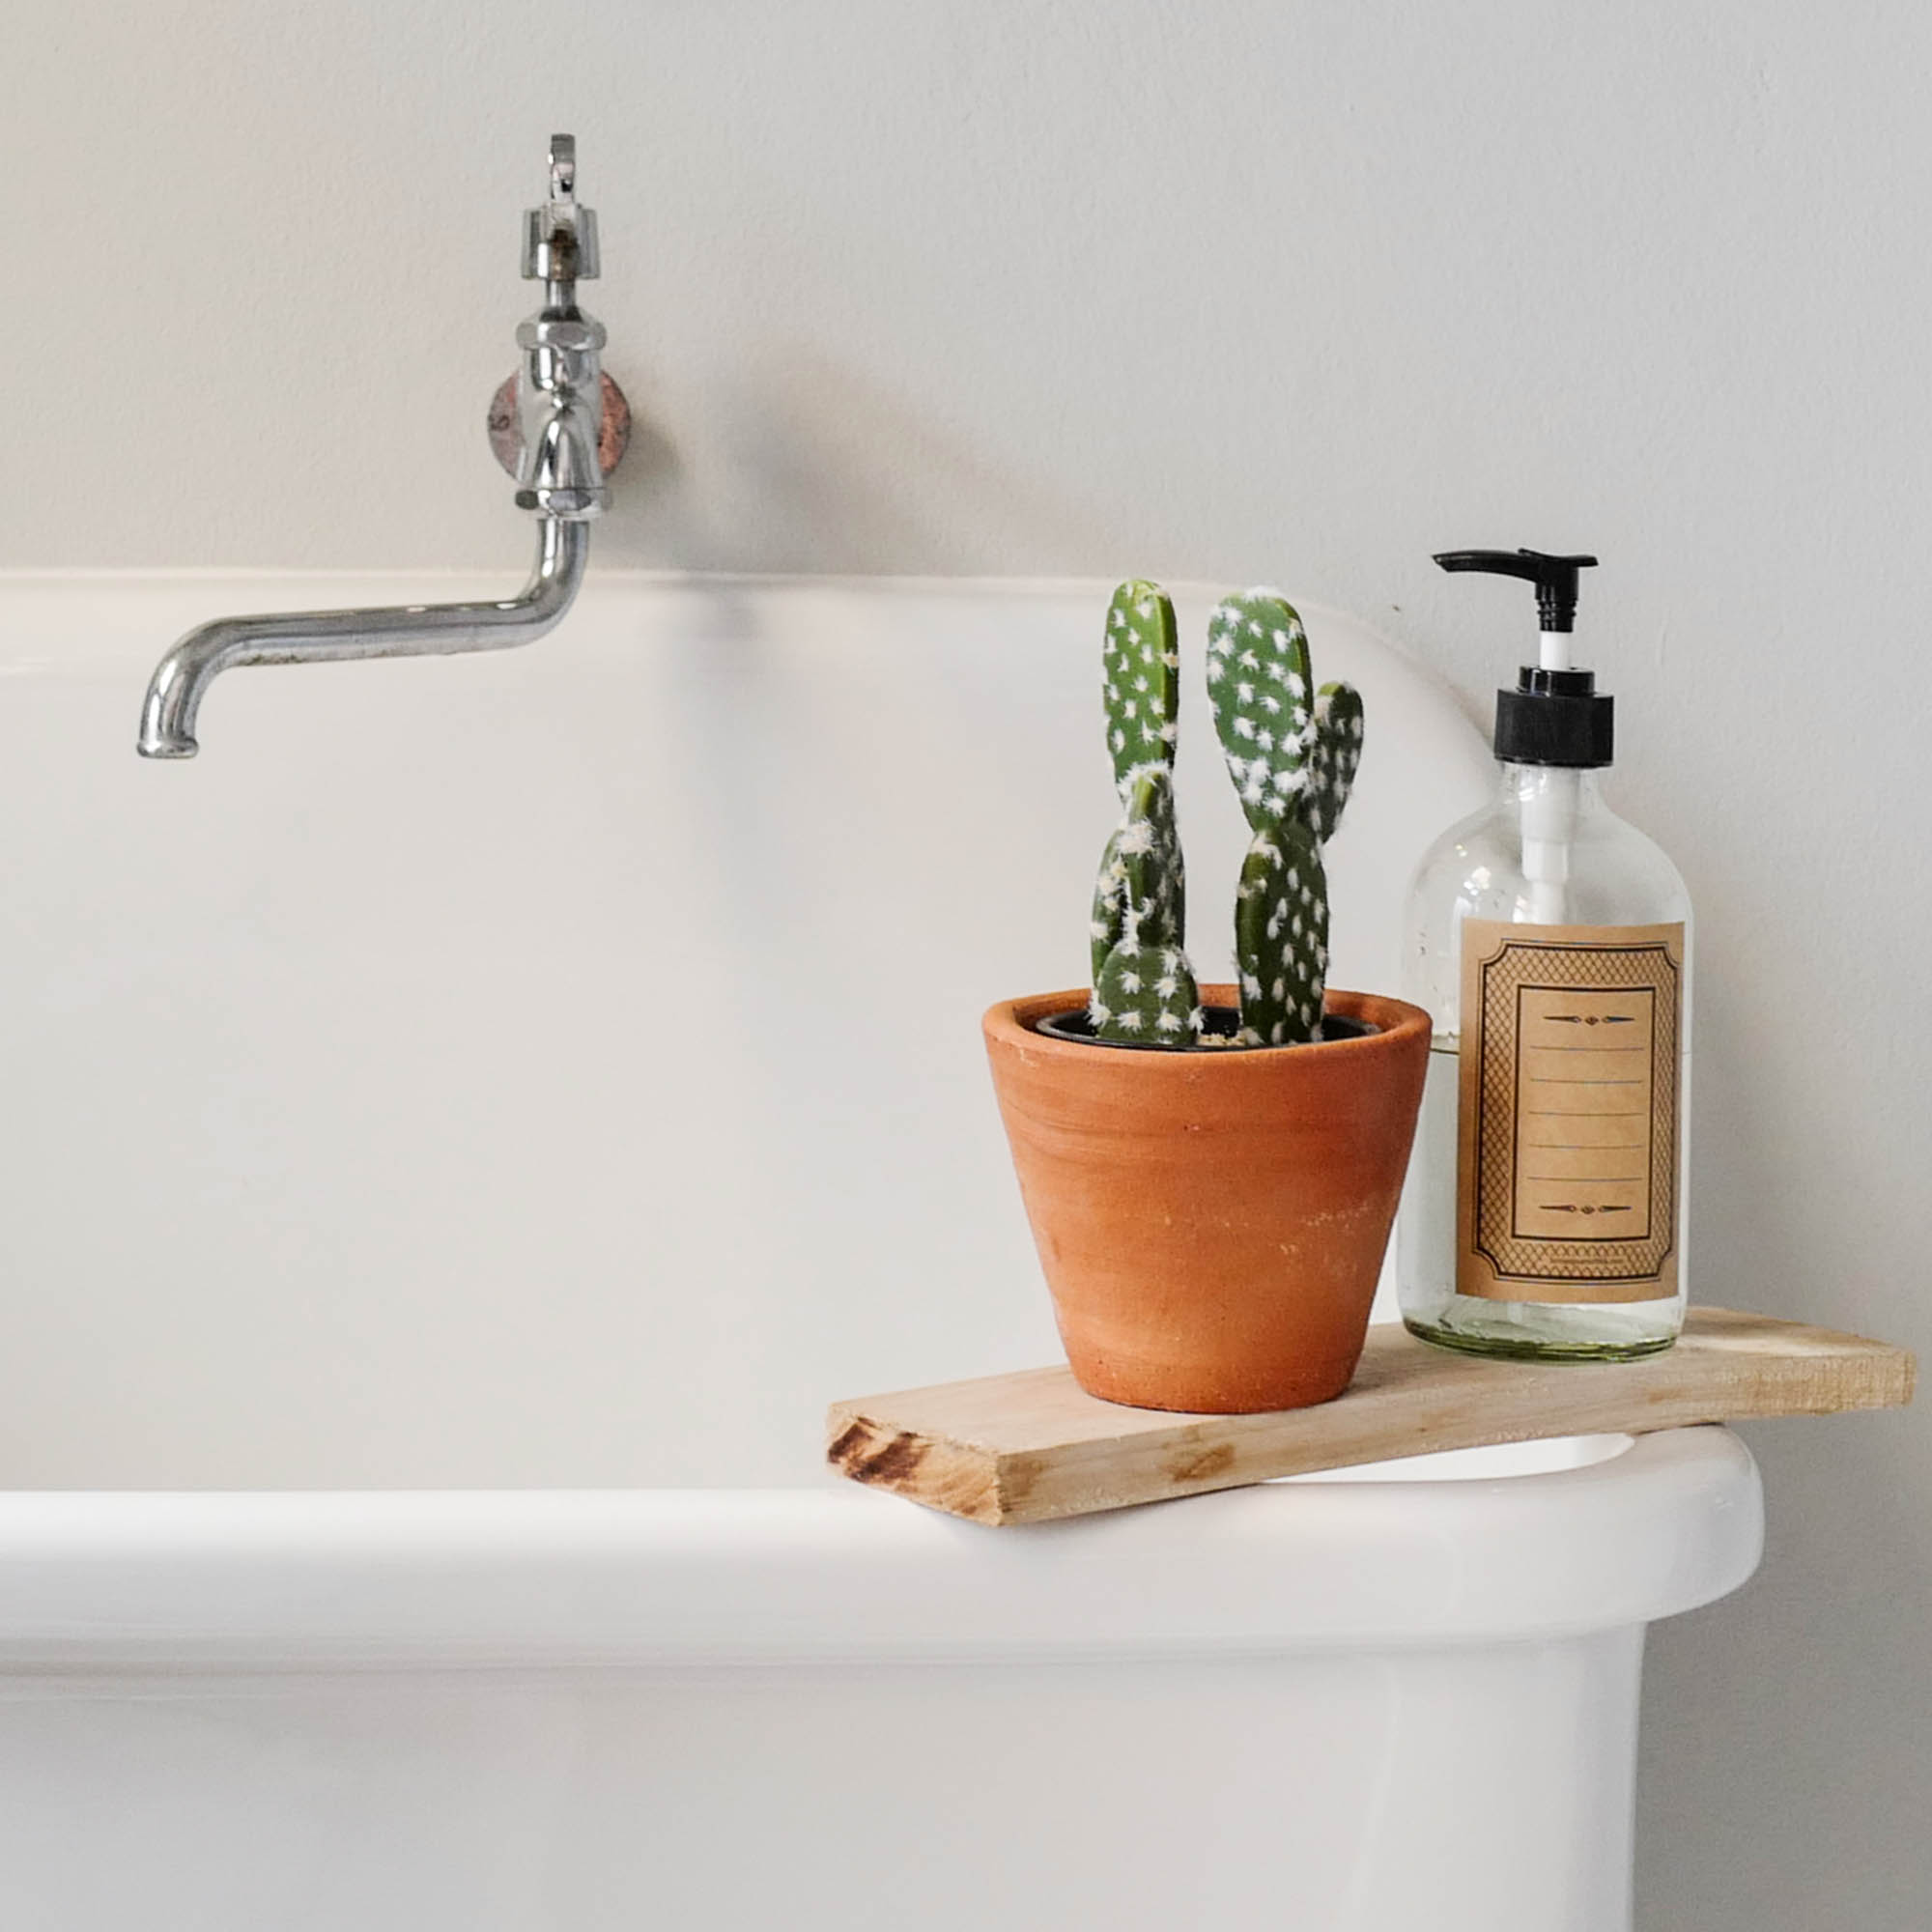glass_bottle: (1380, 529, 1721, 1401)
